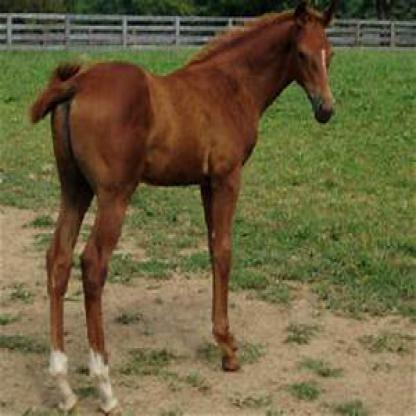horse: (29, 3, 336, 411)
